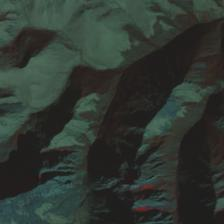landslides: (136, 202, 176, 216), (134, 174, 167, 188), (34, 131, 49, 144), (192, 64, 207, 72), (192, 131, 201, 144)
